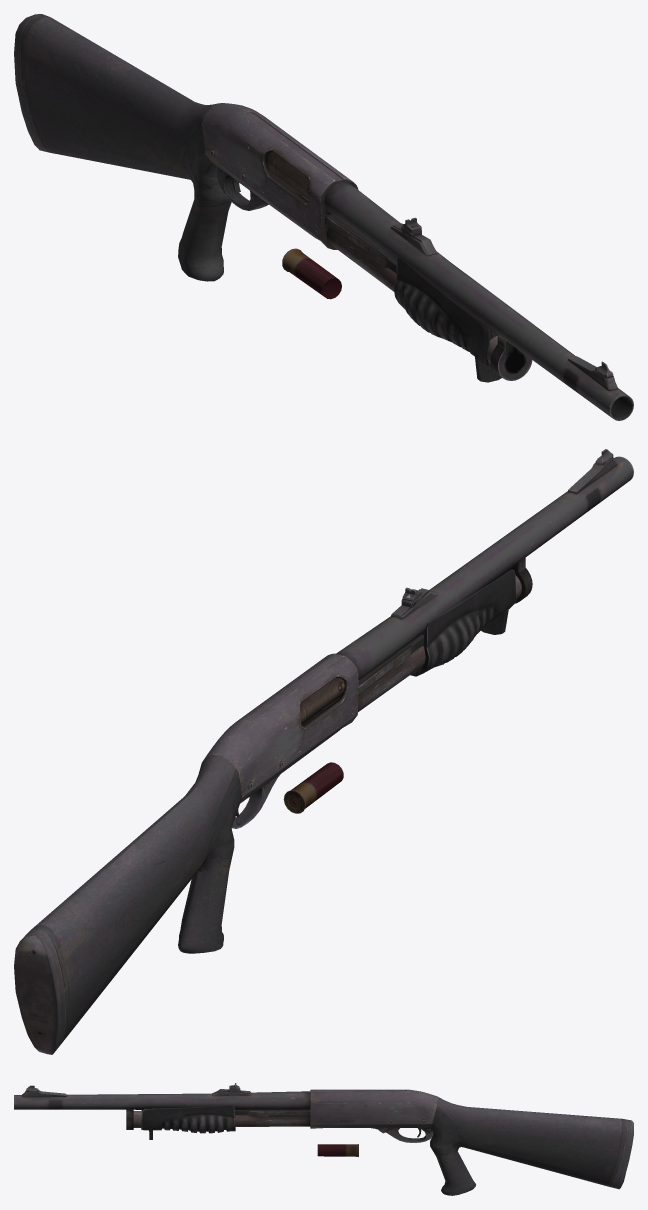
The picture shows the model from 3 angles, top to bottom: view 1: azimuth 30°, elevation 25°; view 2: azimuth 150°, elevation 25°; view 3: azimuth 270°, elevation 25°; orthographic projection. The views are drawn at different scales.
Visible parts, largest first — view 1: Mesh_0006, PUMP, SHELL, EJECTIONPORT; view 2: Mesh_0006, PUMP, SHELL, EJECTIONPORT; view 3: Mesh_0006, PUMP, SHELL.
Boxes of the visible parts, x1=… form: Mesh_0006: x1=14, y1=14, x2=633, y2=420; PUMP: x1=394, y1=256, x2=501, y2=382; SHELL: x1=282, y1=248, x2=341, y2=299; EJECTIONPORT: x1=265, y1=151, x2=309, y2=199; Mesh_0006: x1=14, y1=449, x2=633, y2=1054; PUMP: x1=410, y1=568, x2=516, y2=676; SHELL: x1=283, y1=762, x2=343, y2=813; EJECTIONPORT: x1=300, y1=677, x2=344, y2=724; Mesh_0006: x1=14, y1=1083, x2=633, y2=1195; PUMP: x1=141, y1=1105, x2=235, y2=1139; SHELL: x1=317, y1=1144, x2=358, y2=1156.
Size of the model in its own units: 4.68 by 18.42 by 95.27.
2 materials, 2 textured.
